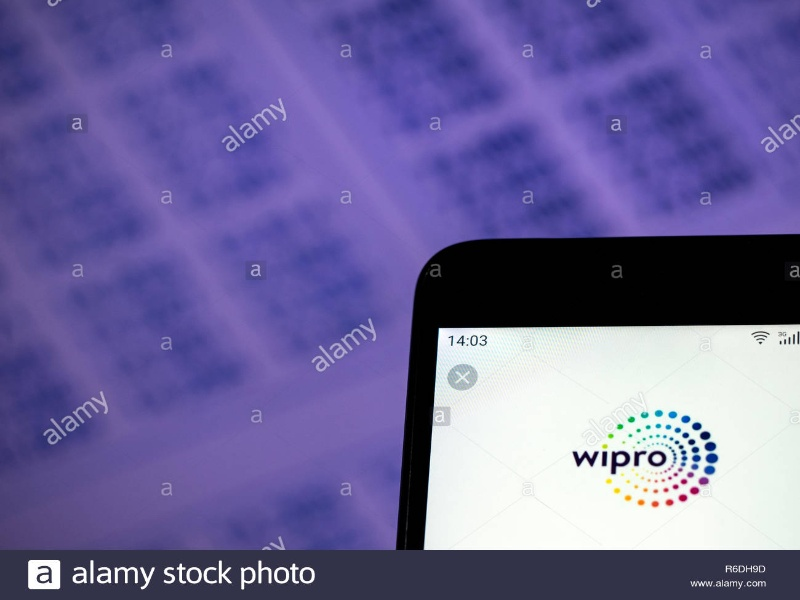wipro: (556, 413, 738, 508)
